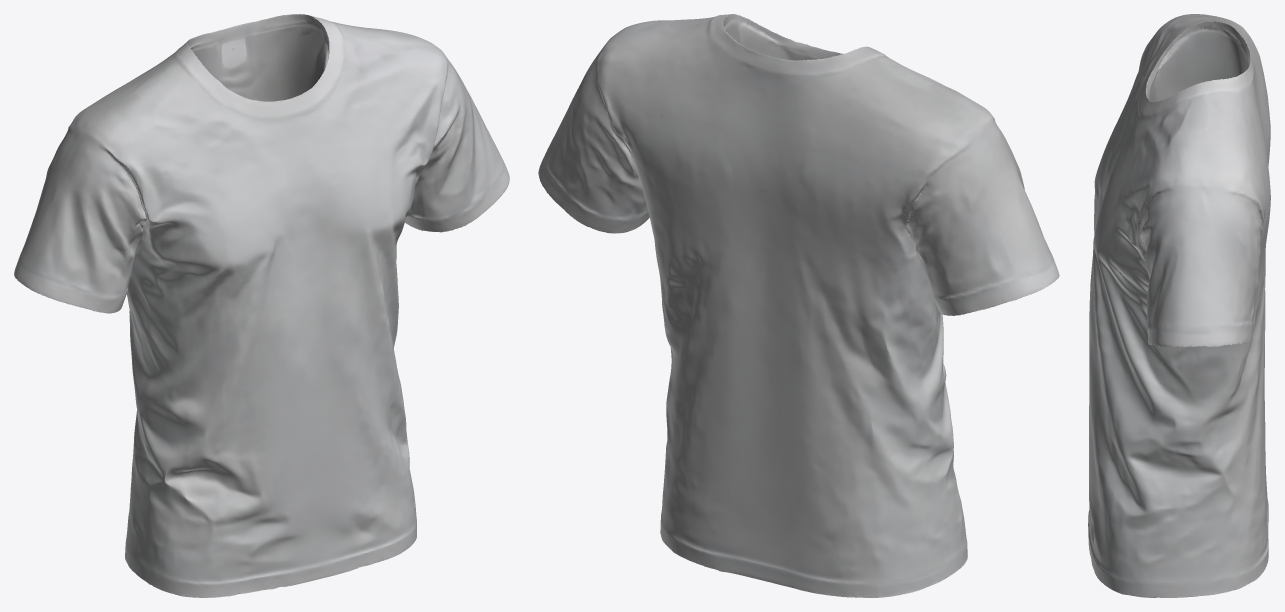
The model's file is base_basic_pbr.glb.
3 renders of one model, left to right at view 1: azimuth 30°, elevation 25°; view 2: azimuth 150°, elevation 25°; view 3: azimuth 270°, elevation 25°, orthographic. The views are drawn at different scales.
Parts seen in each view (by area): view 1: model; view 2: model; view 3: model.
Part boxes in pixels (x1,y1,x2,y2): model: (14,14,509,597); model: (538,14,1059,597); model: (1088,14,1270,597).
Size of the model in its own units: 1.76 by 1.75 by 0.5946.
Materials: 1 (1 with a texture image).
